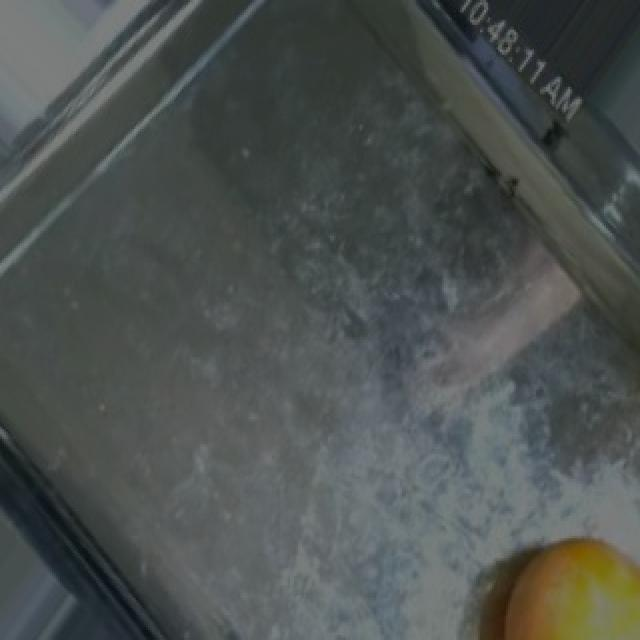Fruit: (474, 513, 640, 640)
